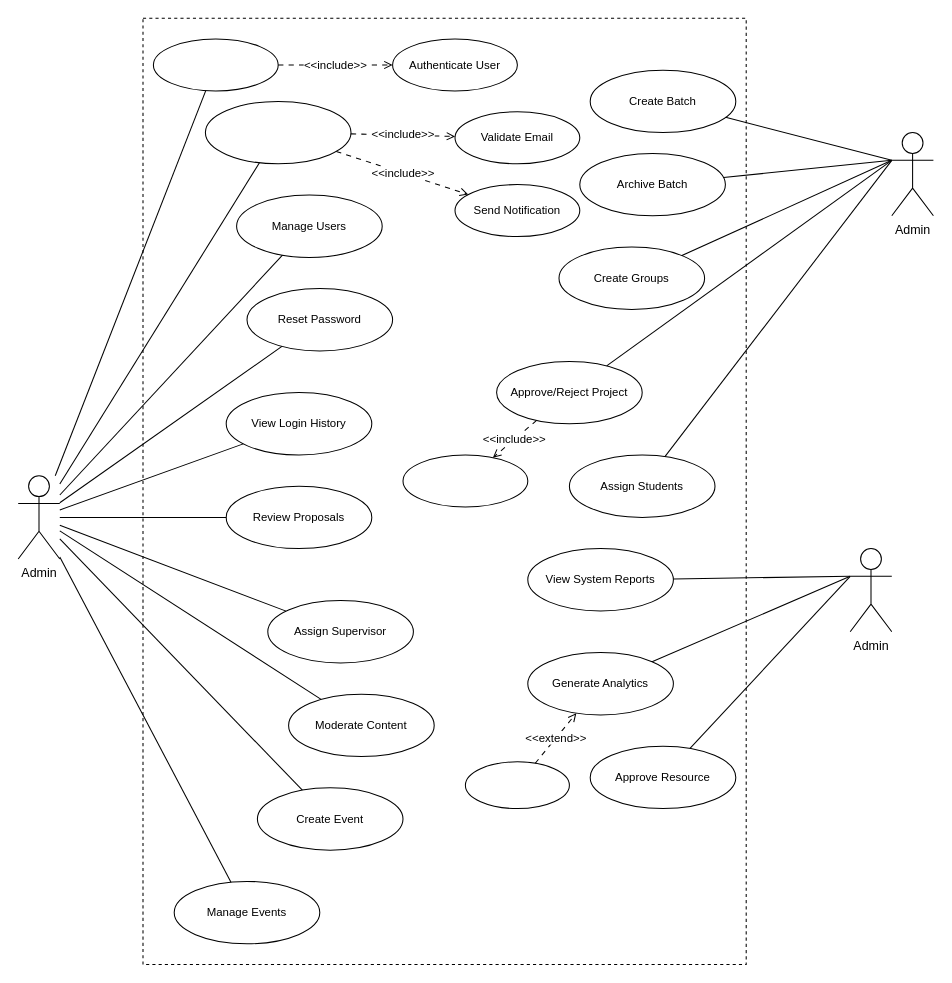
Some shapes in this 952 by 983 pixel diagram are drawn without their labels. The box of each missing label's shape, as (x1, y1, x2, y2) in pixels:
Create User Account: (204, 100, 351, 164)
Export Data: (464, 761, 569, 809)
Login: (152, 38, 278, 91)
Update Project Status: (402, 454, 528, 507)
